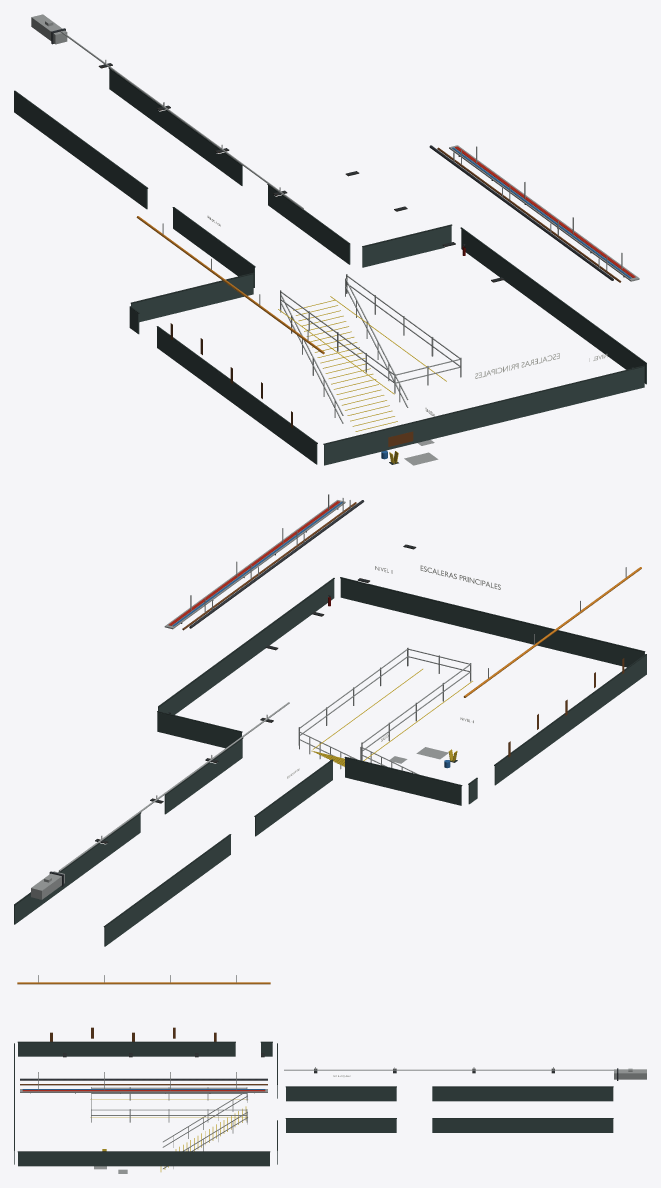
The model's file is stairs_main_art.glb.
3 views of the same model, one above another, from view 1: azimuth 30°, elevation 25°; view 2: azimuth 150°, elevation 25°; view 3: azimuth 270°, elevation 25° (orthographic). The views are drawn at different scales.
Visible parts, largest first — view 1: ST_Main_Wainscot_TRIM, ST_Main_Ceiling_CABLE, ST_Main_Guardrails_TRIM, ST_Main_ConnectorServices_CABLE, ST_Main_StepNosings_TRIM, ST_Main_Handrails_TRIM; view 2: ST_Main_Wainscot_TRIM, ST_Main_Ceiling_CABLE, ST_Main_Guardrails_TRIM, ST_Main_ConnectorServices_CABLE; view 3: ST_Main_Wainscot_TRIM, ST_Main_Ceiling_CABLE, ST_Main_Guardrails_TRIM, ST_Main_ConnectorServices_CABLE, ST_Main_Handrails_TRIM, ST_Main_StepNosings_TRIM, ST_Main_FloorLines_FLOOR_LINE.
Part boxes in pixels (box(x1,y1,x2,y2)): ST_Main_Wainscot_TRIM: box(14, 68, 646, 465); ST_Main_Ceiling_CABLE: box(136, 145, 639, 354); ST_Main_Guardrails_TRIM: box(280, 274, 461, 393); ST_Main_ConnectorServices_CABLE: box(31, 14, 303, 209); ST_Main_StepNosings_TRIM: box(293, 300, 397, 431); ST_Main_Handrails_TRIM: box(280, 278, 408, 423); ST_Main_Wainscot_TRIM: box(14, 577, 646, 946); ST_Main_Ceiling_CABLE: box(164, 494, 641, 697); ST_Main_Guardrails_TRIM: box(298, 647, 471, 760); ST_Main_ConnectorServices_CABLE: box(31, 702, 289, 899); ST_Main_Wainscot_TRIM: box(14, 1041, 613, 1166); ST_Main_Ceiling_CABLE: box(17, 975, 270, 1093); ST_Main_Guardrails_TRIM: box(91, 1087, 247, 1122); ST_Main_ConnectorServices_CABLE: box(284, 1067, 646, 1080); ST_Main_Handrails_TRIM: box(162, 1093, 247, 1168); ST_Main_StepNosings_TRIM: box(160, 1106, 246, 1171); ST_Main_FloorLines_FLOOR_LINE: box(90, 1099, 246, 1117).
Bounding box in the file's own units: 19.69 × 11.5 × 47.95.
16 materials, 4 textured.
